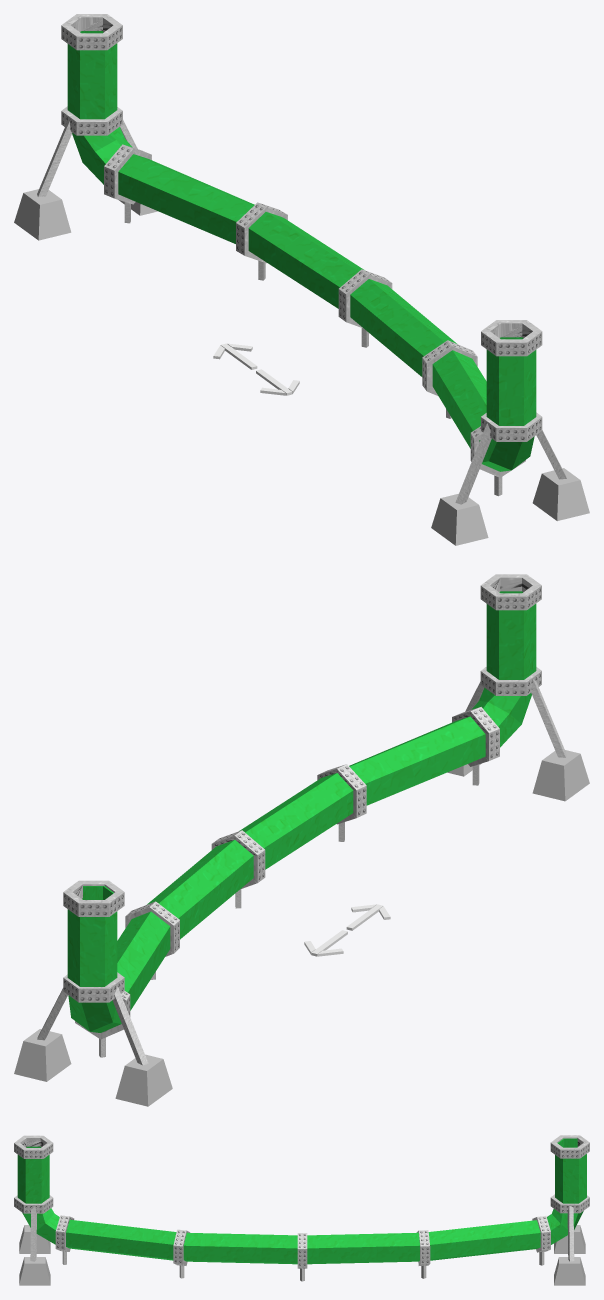
File: BalSuperLong.obj
3 renders of one model, top to bottom at view 1: azimuth 30°, elevation 25°; view 2: azimuth 150°, elevation 25°; view 3: azimuth 270°, elevation 25°, orthographic. The views are drawn at different scales.
Parts seen in each view (by area): view 1: MainTube_Circle.002, ConcreteSupport_Cube.006, SupportLeg2_Cylinder.001, Band2_Circle.003, Band5_Circle.003, Band6_Circle.003, Band4_Circle.003, Band1_Circle.003, Cube.001_Cube.008, Band7.001_Circle.001, Band7_Circle.003, Band_Circle.003; view 2: MainTube_Circle.002, ConcreteSupport_Cube.006, SupportLeg2_Cylinder.001, Band2_Circle.003, Band5_Circle.003, Band3_Circle.003, Band6_Circle.003, Band1_Circle.003, Cube.001_Cube.008, Band_Circle.003, Band7_Circle.003, Band7.001_Circle.001; view 3: MainTube_Circle.002, ConcreteSupport_Cube.006, Band2_Circle.003, SupportLeg2_Cylinder.001, Band5_Circle.003, Band1_Circle.003, Band3_Circle.003, Band6_Circle.003, Band4_Circle.003, Band_Circle.003, Band7.001_Circle.001, Band7_Circle.003.
Part boxes in pixels (x1,y1,x2,y2): MainTube_Circle.002: (67, 31, 536, 471); ConcreteSupport_Cube.006: (14, 189, 589, 545); SupportLeg2_Cylinder.001: (37, 120, 566, 504); Band2_Circle.003: (481, 320, 542, 356); Band5_Circle.003: (61, 14, 122, 50); Band6_Circle.003: (61, 106, 122, 135); Band4_Circle.003: (104, 144, 151, 204); Band1_Circle.003: (481, 412, 542, 441); Cube.001_Cube.008: (213, 343, 299, 395); Band7.001_Circle.001: (236, 202, 287, 263); Band7_Circle.003: (338, 269, 392, 328); Band_Circle.003: (422, 340, 477, 396); MainTube_Circle.002: (67, 591, 536, 1032); ConcreteSupport_Cube.006: (14, 750, 589, 1106); SupportLeg2_Cylinder.001: (37, 679, 566, 1065); Band2_Circle.003: (480, 574, 541, 610); Band5_Circle.003: (63, 880, 124, 916); Band3_Circle.003: (452, 707, 499, 766); Band6_Circle.003: (63, 972, 124, 1002); Band1_Circle.003: (480, 667, 541, 695); Cube.001_Cube.008: (304, 904, 390, 956); Band_Circle.003: (317, 764, 366, 824); Band7_Circle.003: (211, 830, 265, 889); Band7.001_Circle.001: (125, 901, 179, 956); MainTube_Circle.002: (17, 1138, 586, 1264); ConcreteSupport_Cube.006: (19, 1225, 585, 1285); Band2_Circle.003: (14, 1135, 53, 1158); SupportLeg2_Cylinder.001: (30, 1206, 574, 1261); Band5_Circle.003: (550, 1135, 589, 1158); Band1_Circle.003: (14, 1195, 53, 1213); Band3_Circle.003: (55, 1215, 74, 1251); Band6_Circle.003: (550, 1194, 589, 1213); Band4_Circle.003: (532, 1216, 550, 1252); Band_Circle.003: (173, 1229, 190, 1265); Band7.001_Circle.001: (417, 1230, 430, 1265); Band7_Circle.003: (297, 1233, 307, 1268).
Bounding box in the file's own units: 2.54 × 3 × 12.86.
Materials: 5 (3 with a texture image).
